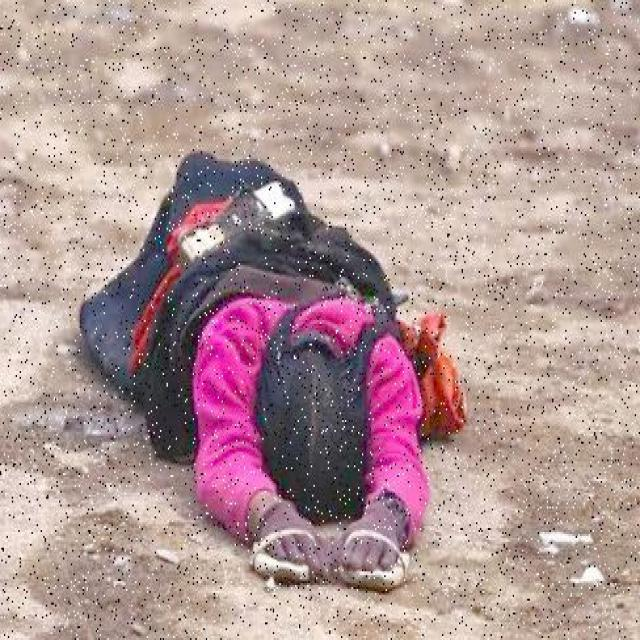fall: (116, 145, 452, 593)
